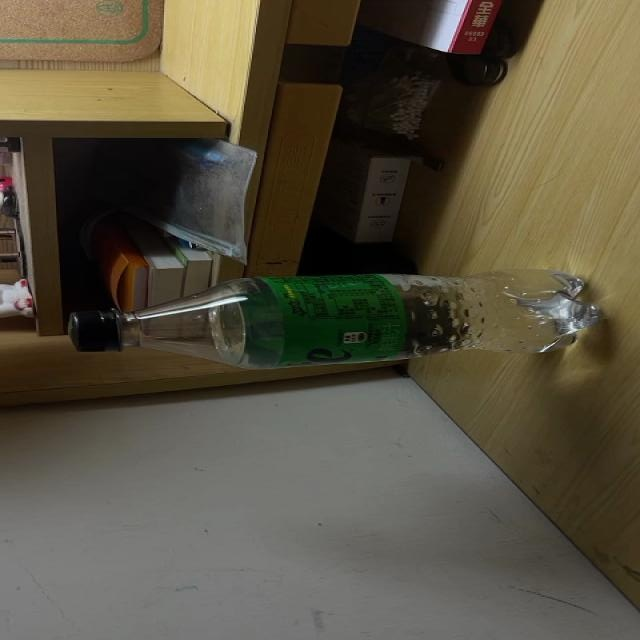Sprite: (68, 267, 600, 371)
